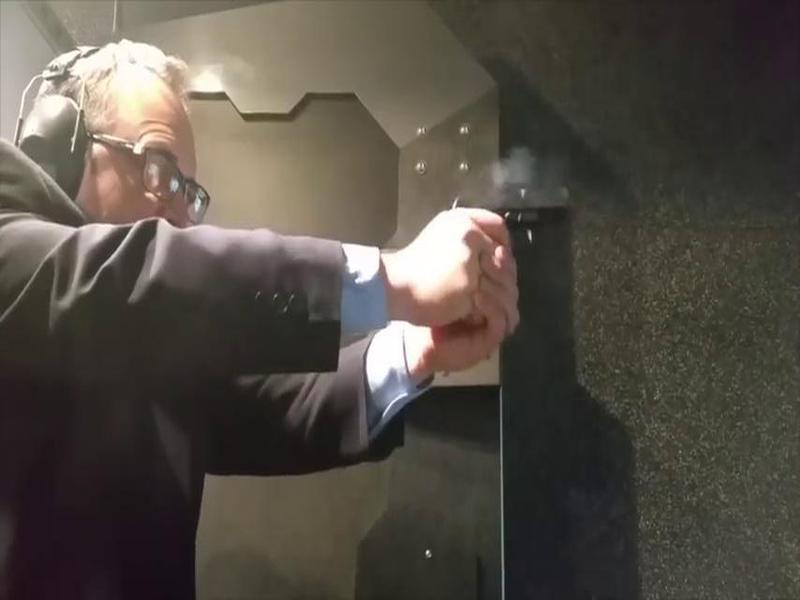Pistola: (434, 167, 590, 304)
